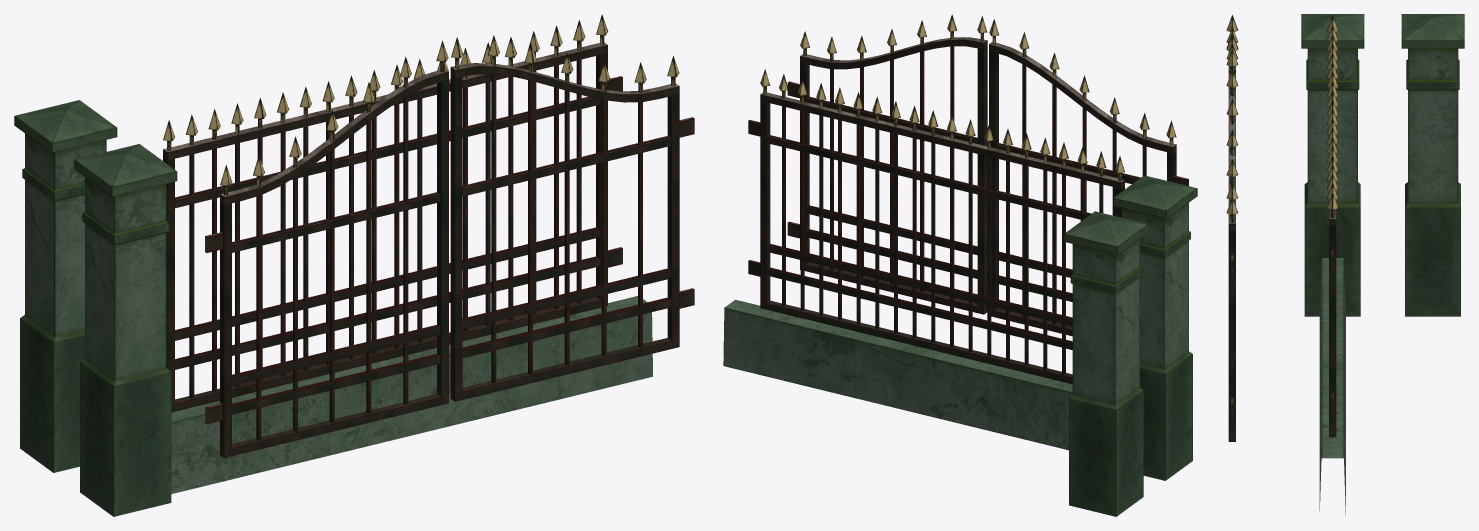
File: graveyard_fence.glb
The picture shows the model from 3 angles, left to right: view 1: azimuth 30°, elevation 25°; view 2: azimuth 150°, elevation 25°; view 3: azimuth 270°, elevation 25°; orthographic projection. The views are drawn at different scales.
Visible parts, largest first — view 1: fence_1, fence gate 0_2, fence gate 1_3, fence column_0; view 2: fence_1, fence column_0, fence gate 1_3, fence gate 0_2; view 3: fence_1, fence column_0, fence gate 1_3, fence gate 0_2.
Part boxes in pixels (left/top/right/bottom): fence_1: left=74, top=14, right=652, bottom=516; fence gate 0_2: left=205, top=40, right=448, bottom=457; fence gate 1_3: left=450, top=35, right=694, bottom=401; fence column_0: left=14, top=100, right=117, bottom=472; fence_1: left=723, top=69, right=1197, bottom=480; fence column_0: left=1064, top=211, right=1148, bottom=516; fence gate 1_3: left=787, top=14, right=987, bottom=314; fence gate 0_2: left=989, top=19, right=1188, bottom=336; fence_1: left=1301, top=14, right=1364, bottom=515; fence column_0: left=1401, top=14, right=1464, bottom=316; fence gate 1_3: left=1226, top=49, right=1238, bottom=441; fence gate 0_2: left=1226, top=15, right=1238, bottom=72.
Bounding box in the file's own units: 5.31 × 4.03 × 2.37.
1 material, 1 textured.
